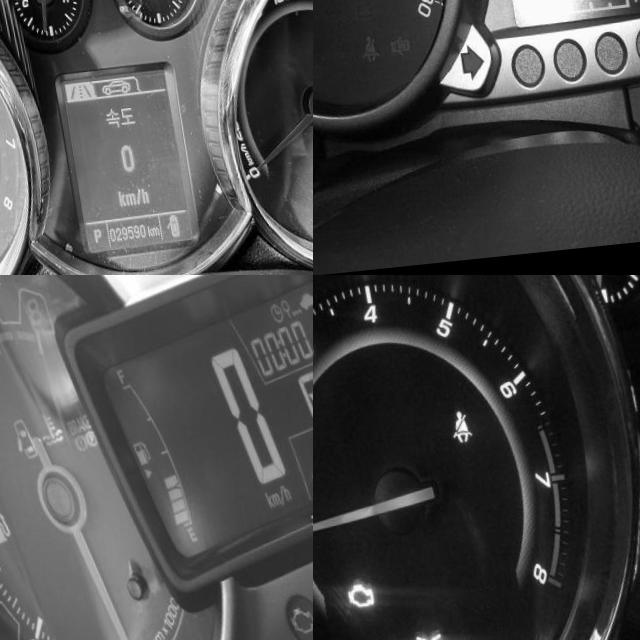Doors: (0, 417, 26, 465), (374, 37, 397, 59)
Engine cooling system: (20, 410, 54, 450)
